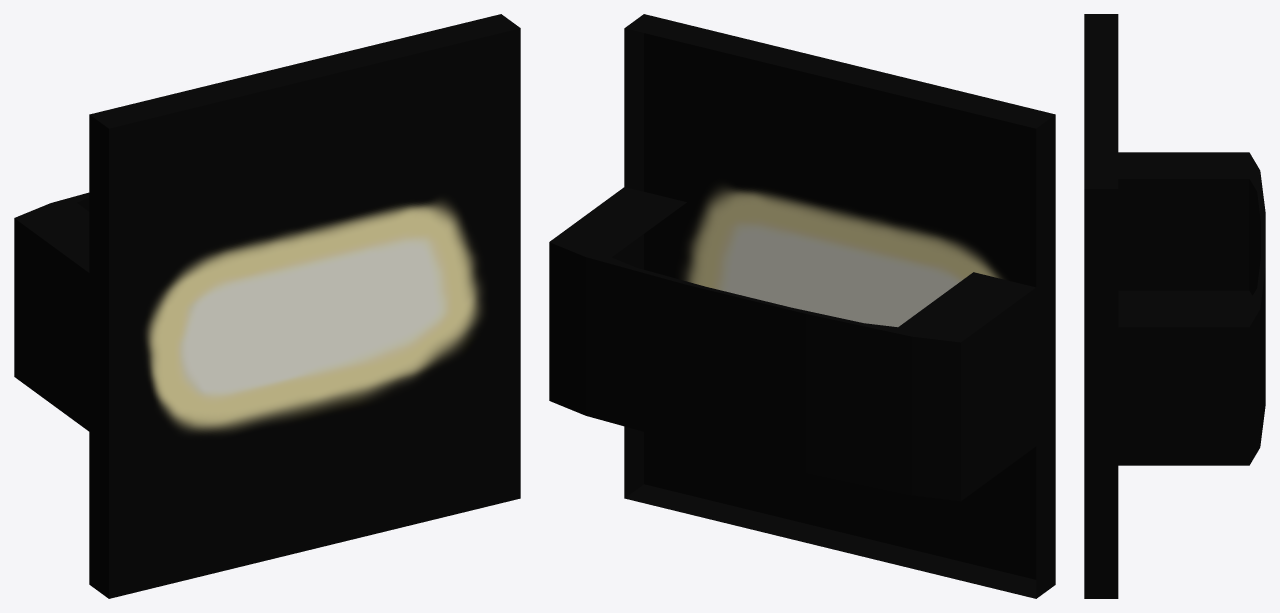
Rendered from ReflectorBamba.glb.
The picture shows the model from 3 angles, left to right: view 1: azimuth 30°, elevation 25°; view 2: azimuth 150°, elevation 25°; view 3: azimuth 270°, elevation 25°; orthographic projection. The views are drawn at different scales.
Visible parts, largest first — view 1: Cube; view 2: Cube; view 3: Cube.
Part boxes in pixels (x1,y1,x2,y2): Cube: [14, 14, 520, 598]; Cube: [549, 14, 1055, 598]; Cube: [1084, 14, 1265, 598].
Size of the model in its own units: 2.61 by 2.85 by 1.14.
2 materials, 1 textured.
